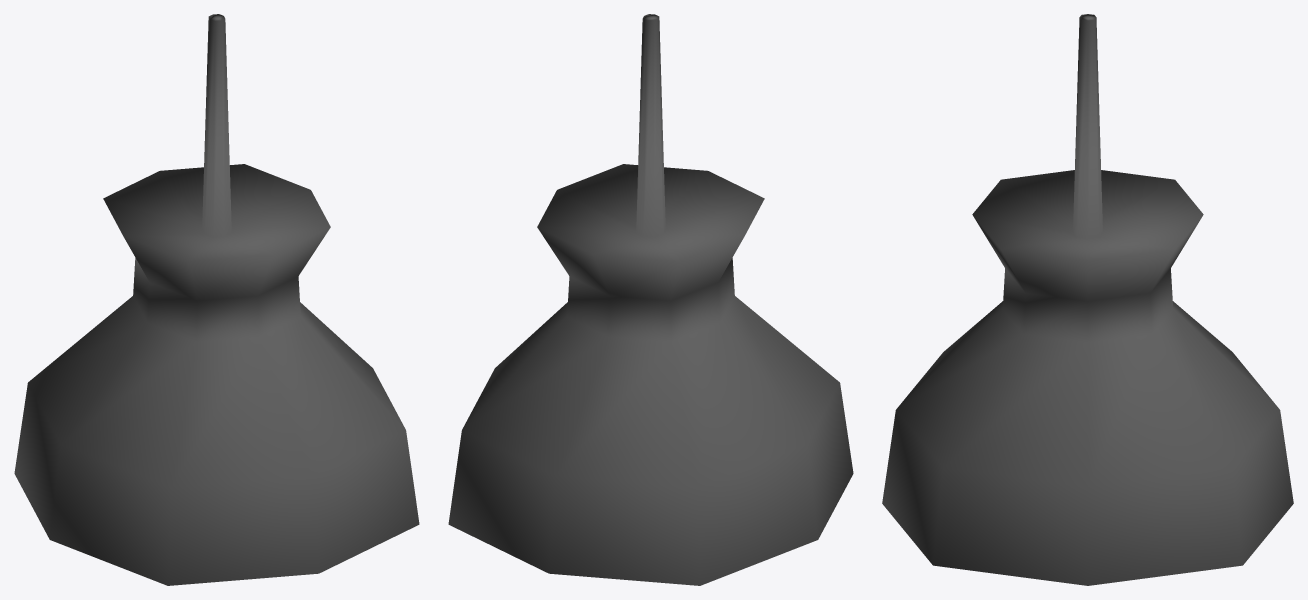
The model's file is lamp.fbx.
The picture shows the model from 3 angles, left to right: view 1: azimuth 30°, elevation 25°; view 2: azimuth 150°, elevation 25°; view 3: azimuth 270°, elevation 25°; orthographic projection.
Parts seen in each view (by area): view 1: polySurface52; view 2: polySurface52; view 3: polySurface52.
Boxes of the visible parts, left/top/right/bottom form: polySurface52: left=14, top=14, right=419, bottom=585; polySurface52: left=448, top=14, right=853, bottom=585; polySurface52: left=882, top=14, right=1293, bottom=585.
Size of the model in its own units: 0.7207 by 1.11 by 0.7611.
1 material, 1 textured.
